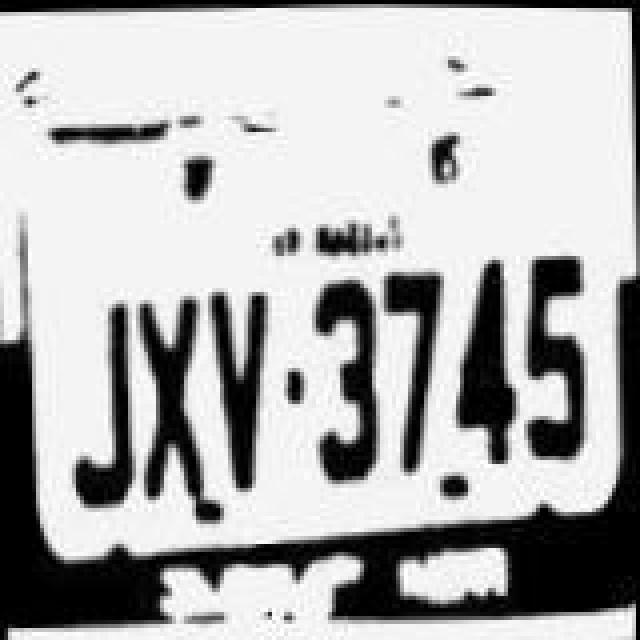3: (306, 266, 382, 510)
4: (446, 228, 522, 476)
5: (512, 226, 588, 474)
7: (378, 252, 454, 476)
J: (58, 272, 134, 516)
V: (202, 276, 278, 500)
X: (130, 278, 206, 506)
